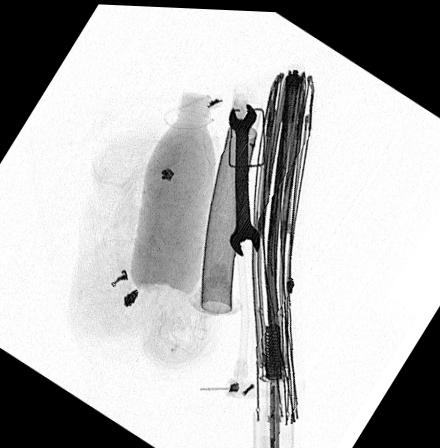Wrench: (225, 98, 261, 256)
